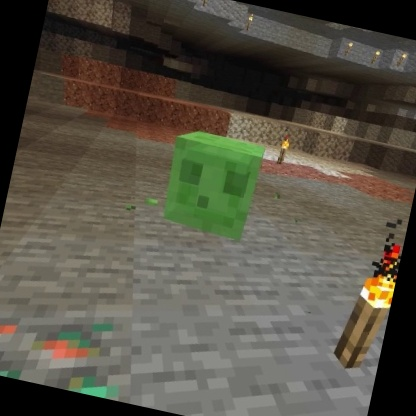slime: (155, 123, 271, 248)
